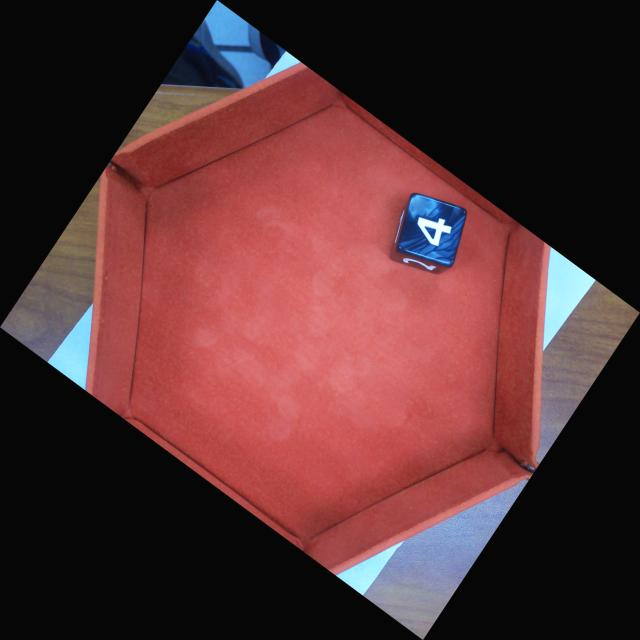dice: (395, 190, 469, 269)
